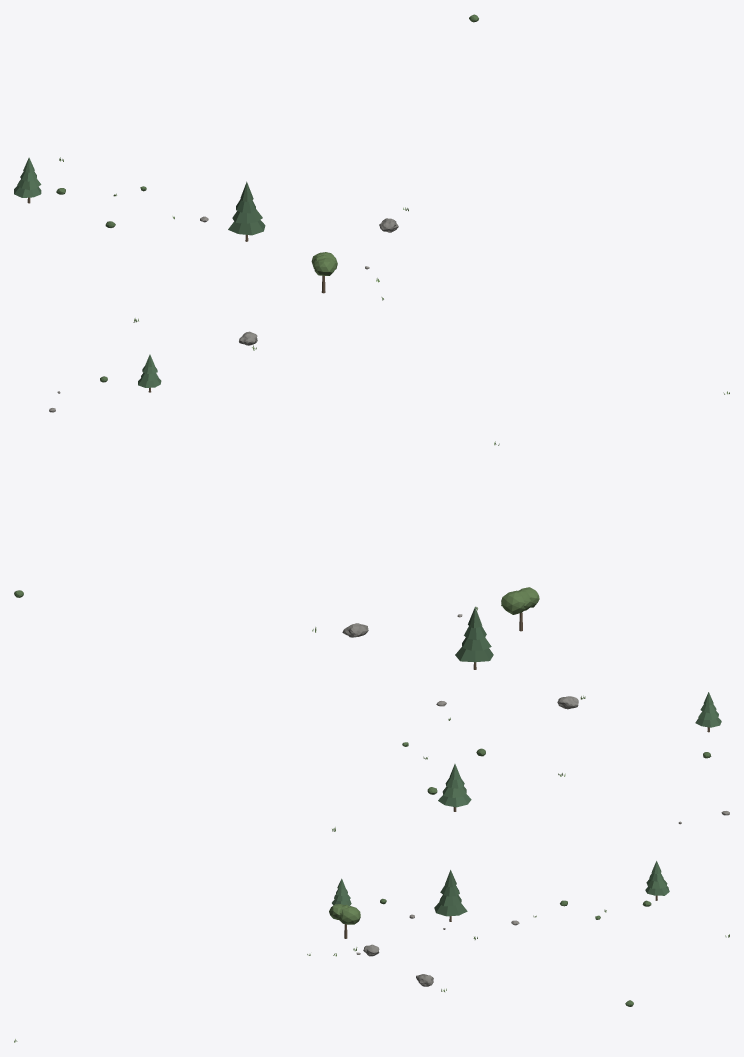
Rendered from arch_land_scatter_c19_20.glb.
The picture shows the model from 3 angles, top to bottom: view 1: azimuth 30°, elevation 25°; view 2: azimuth 150°, elevation 25°; view 3: azimuth 270°, elevation 25°; orthographic projection. The views are drawn at different scales.
Parts seen in each view (by area): view 1: arch_land_scatter_c19_20; view 2: arch_land_scatter_c19_20; view 3: arch_land_scatter_c19_20.
Boxes of the visible parts, x1,y1,x2,y2 form: arch_land_scatter_c19_20: (14,14,729,412); arch_land_scatter_c19_20: (14,441,729,831); arch_land_scatter_c19_20: (14,861,729,1042).
Size of the model in its own units: 133 by 39.71 by 172.
